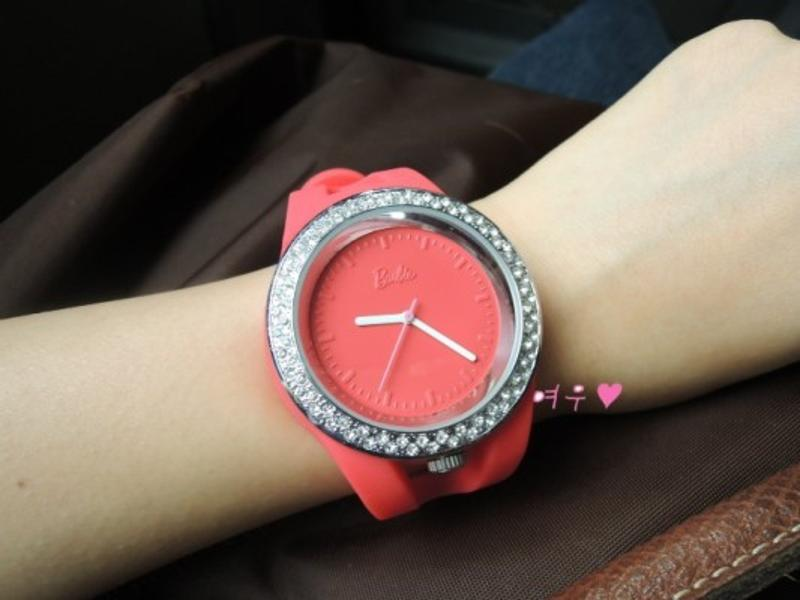watch: (264, 165, 543, 519)
